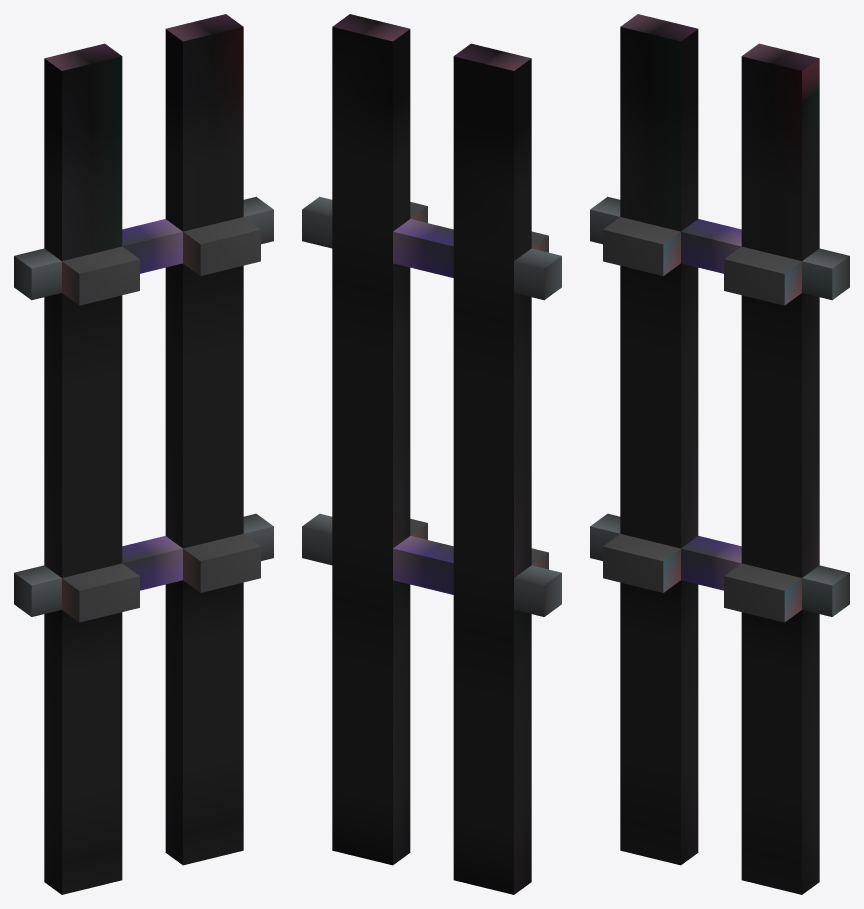
File: Cable_O_00.fbx
3 renders of one model, left to right at view 1: azimuth 30°, elevation 25°; view 2: azimuth 150°, elevation 25°; view 3: azimuth 330°, elevation 25°, orthographic.
Visible parts, largest first — view 1: Cable_O_00; view 2: Cable_O_00; view 3: Cable_O_00.
Part boxes in pixels (x1,y1,x2,y2): Cable_O_00: (14, 14, 273, 894); Cable_O_00: (302, 14, 561, 894); Cable_O_00: (590, 14, 849, 894).
Bounding box in the file's own units: 40 × 130 × 10.
